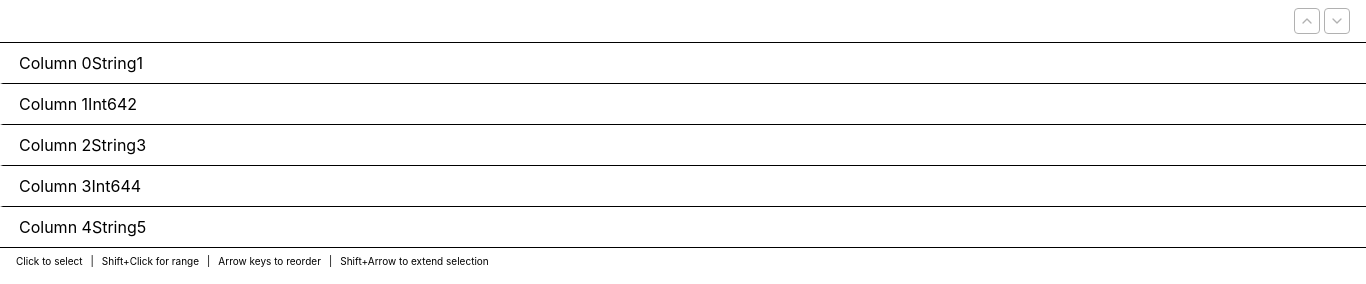
Test: ConfigColumnSelector › shift+arrow extends selection
The width and height of the screenshot is (1366, 284).
// Select item at index 2
Click the option with test id "item-col-2" at x=55, y=145, box [0,124,1365,165]
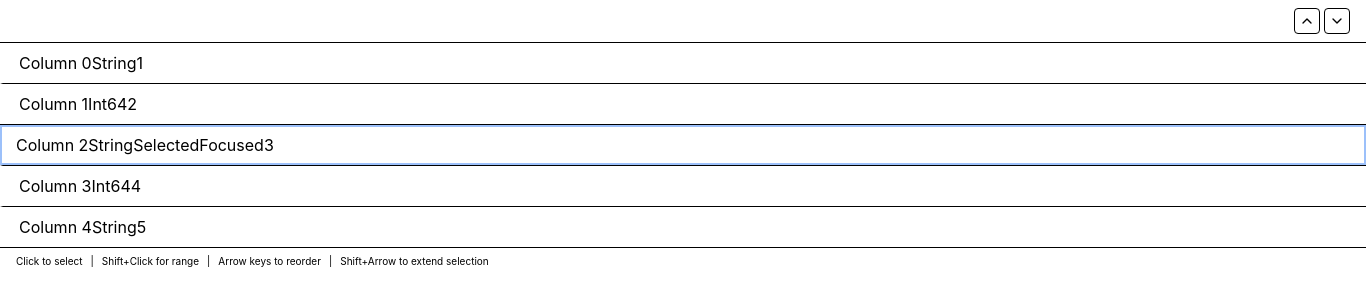
Now the text "Selected" is shown, box [133,135,199,155]
// Shift+ArrowDown to extend selection
Type keys "{Shift>}{ArrowDown}{/Shift}"
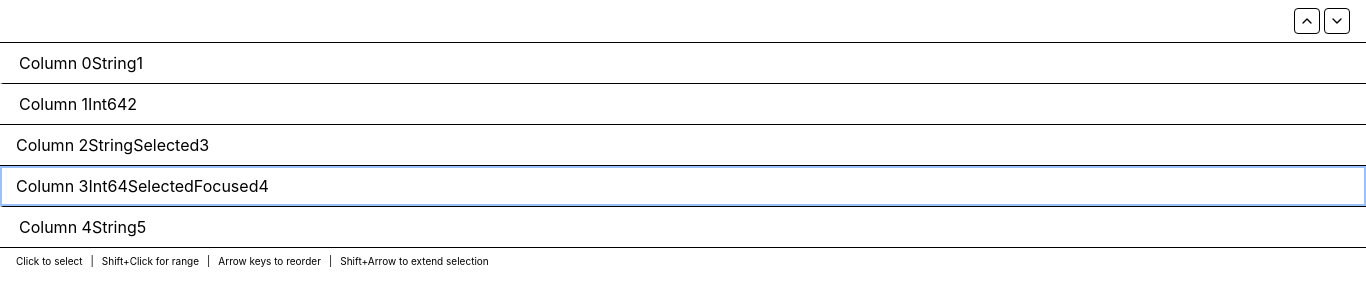
Now the number of elements with test id "selected-indicator" is 2, box [133,135,199,155]; [128,176,194,196]
